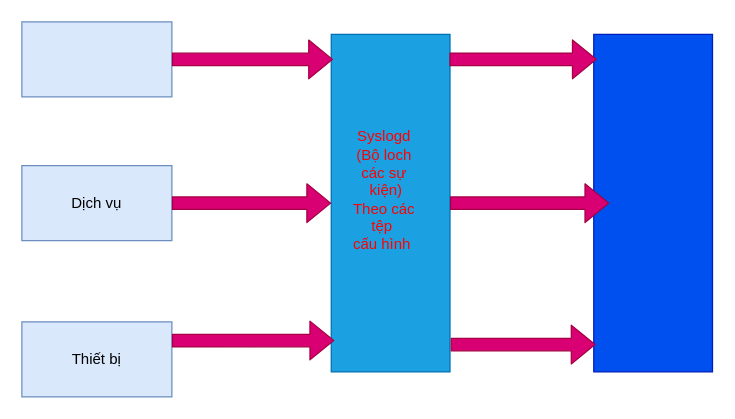
The diagram is 735 pixels wide and 419 high, and some of its shapes have lost their labels. Each missing label, with the centre of its shape:
Các tệp nhật kí (Log files): the point at 652,202
Ứng dụng: the point at 96,59
